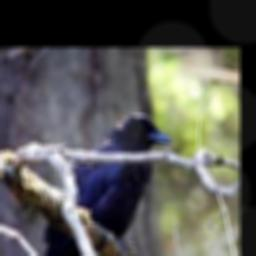Crow: (32, 113, 171, 256)
